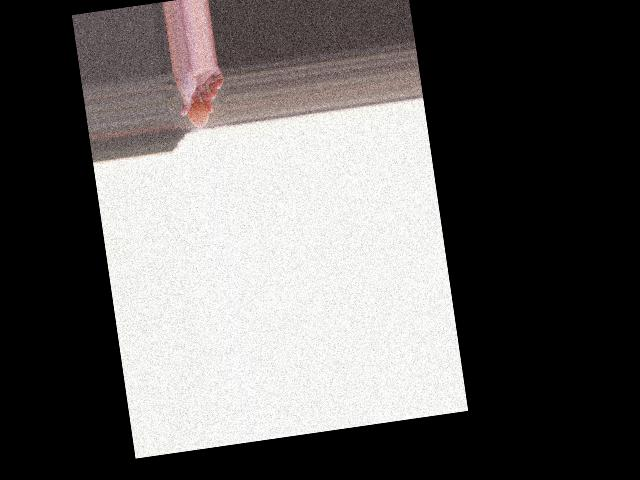egg: (187, 100, 211, 128)
